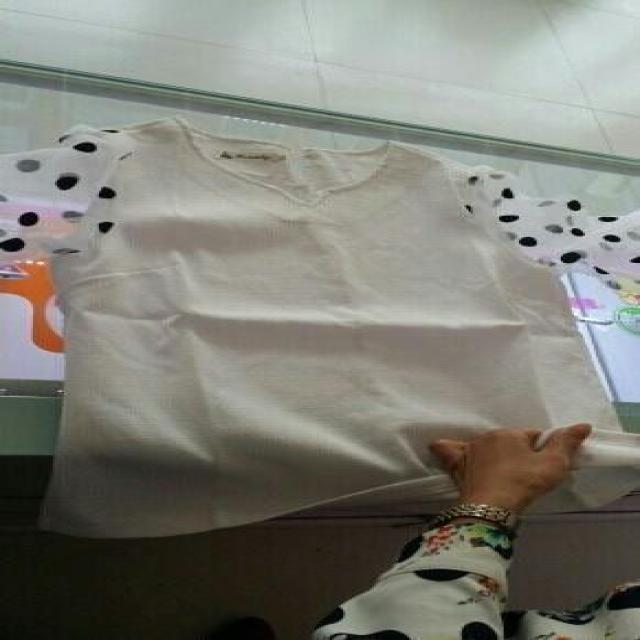short sleeve top: (2, 118, 636, 528)
